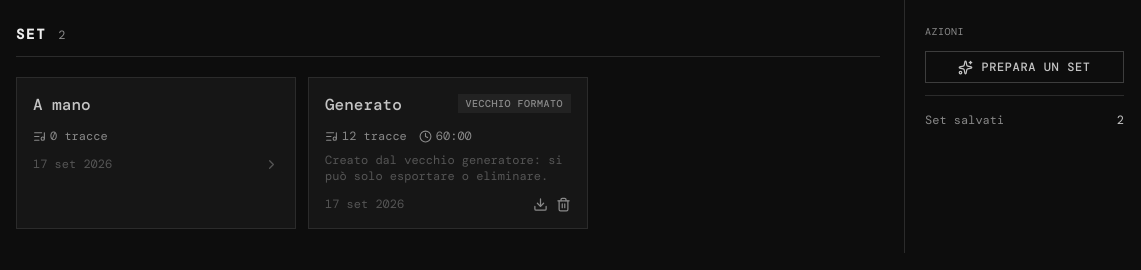
Test case: lista dei set › eliminare un set vecchio lo toglie dalla lista
Expected: the heading "Generato" is shown, [325,94,402,116]
Click the button titled "Elimina" at (564, 204), box [556,196,571,212]
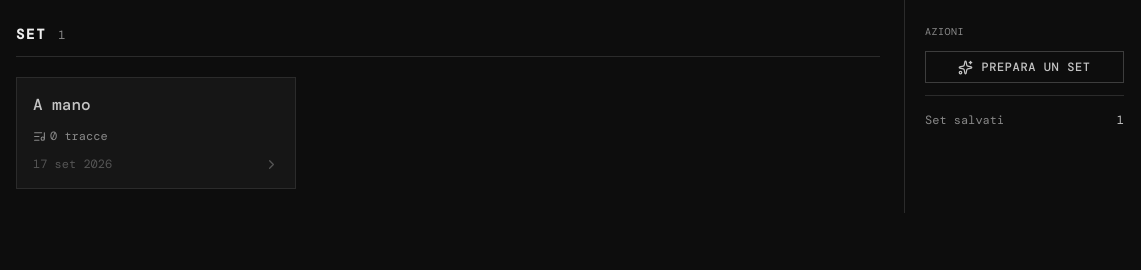
Expected: the heading "A mano" is shown, [33,94,91,116]
Expected: the heading "Generato" is gone
